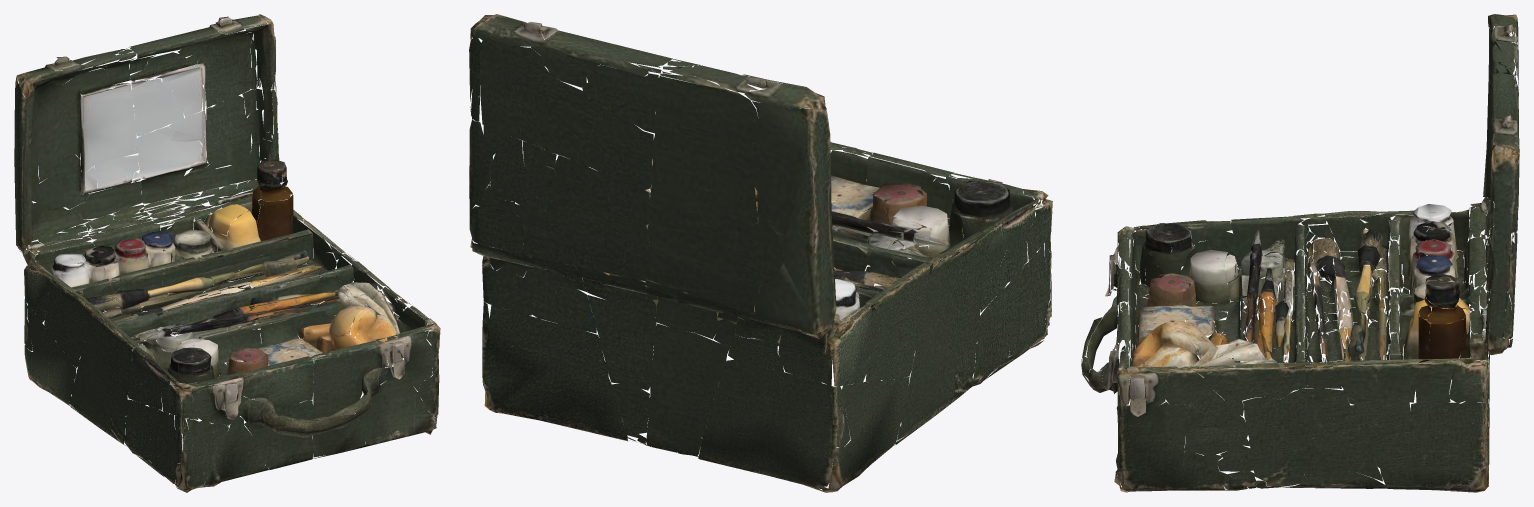
Rendered from makeupkit_prop.glb.
3 renders of one model, left to right at view 1: azimuth 30°, elevation 25°; view 2: azimuth 150°, elevation 25°; view 3: azimuth 270°, elevation 25°, orthographic. The views are drawn at different scales.
Visible parts, largest first — view 1: prop_makeupkit; view 2: prop_makeupkit; view 3: prop_makeupkit.
Part boxes in pixels (x1,y1,x2,y2): prop_makeupkit: (14,14,440,492); prop_makeupkit: (469,14,1052,492); prop_makeupkit: (1081,14,1519,492).
Size of the model in its own units: 0.7931 by 0.8654 by 0.9775.
Materials: 1 (1 with a texture image).
